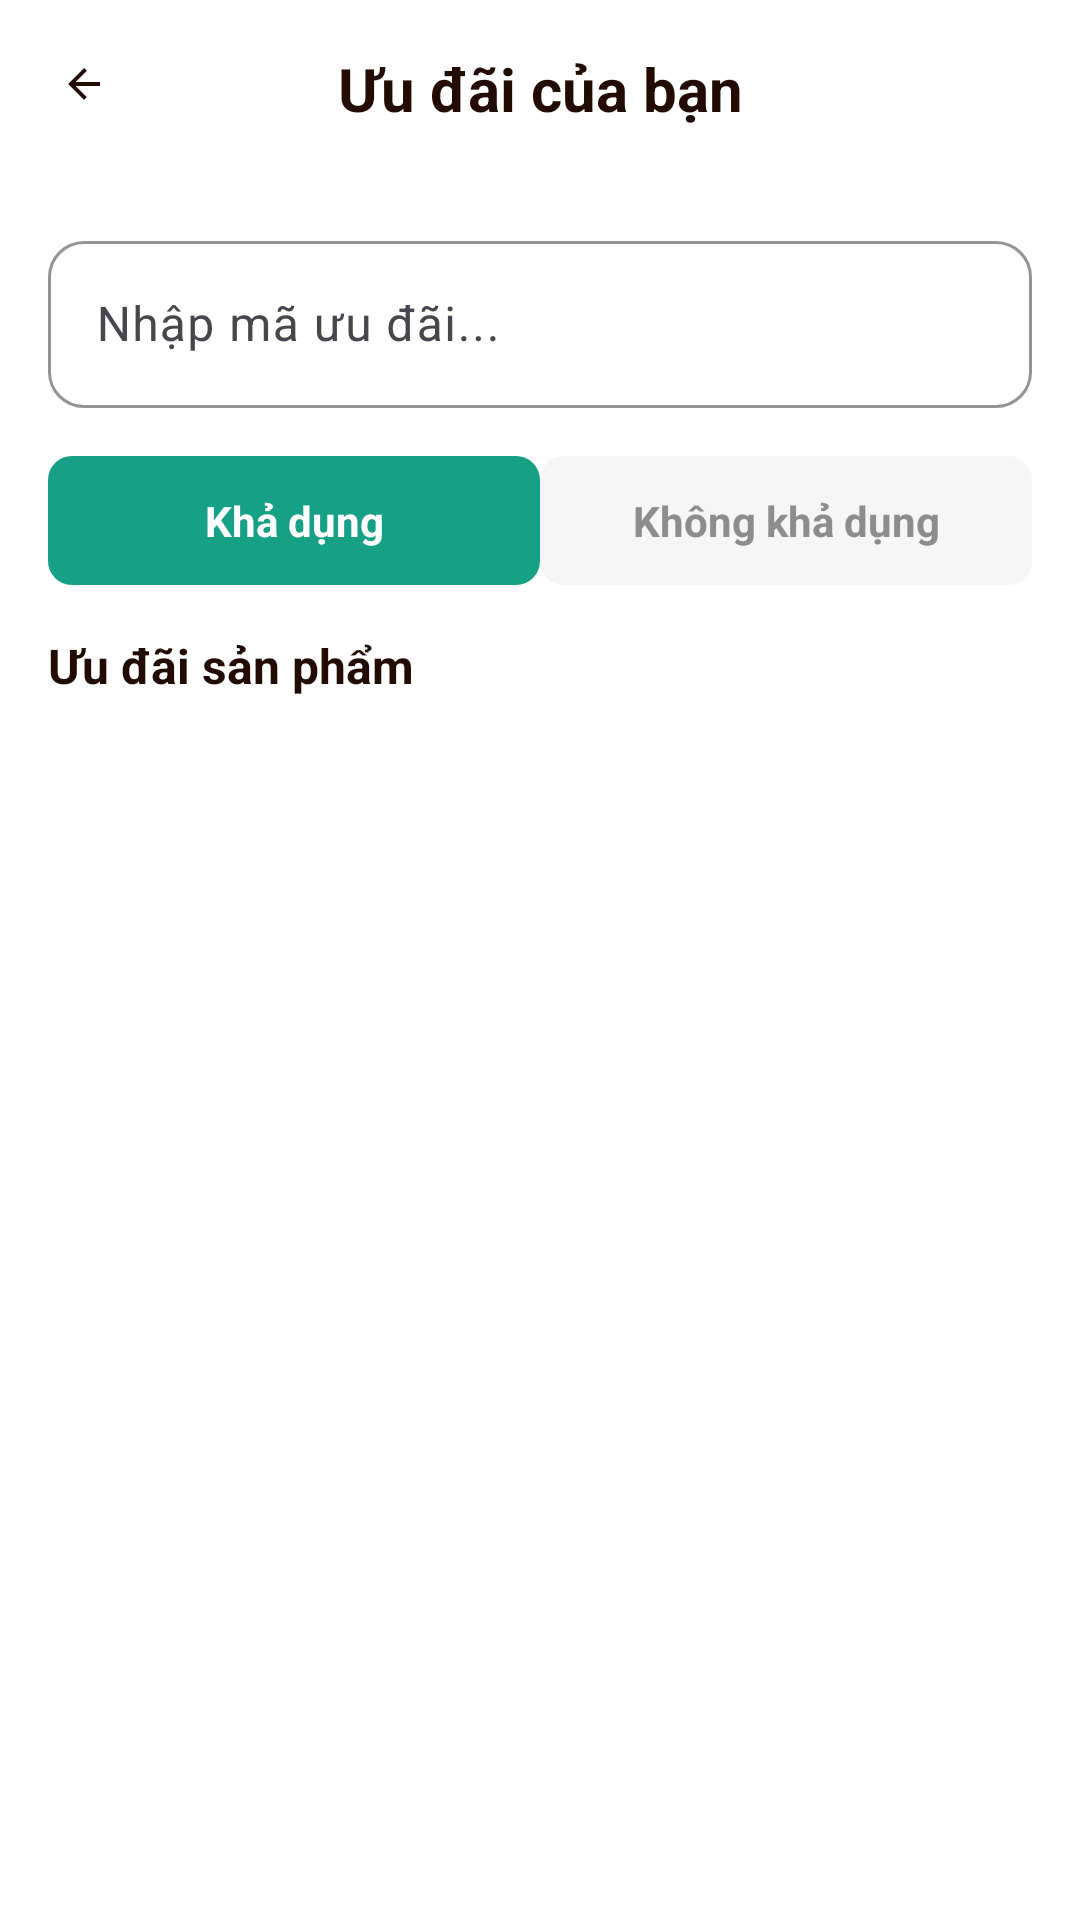

Named icons in this screenshot (1080×1920) and their centers, (x=x, y=y):
Back: (x=84, y=84)
